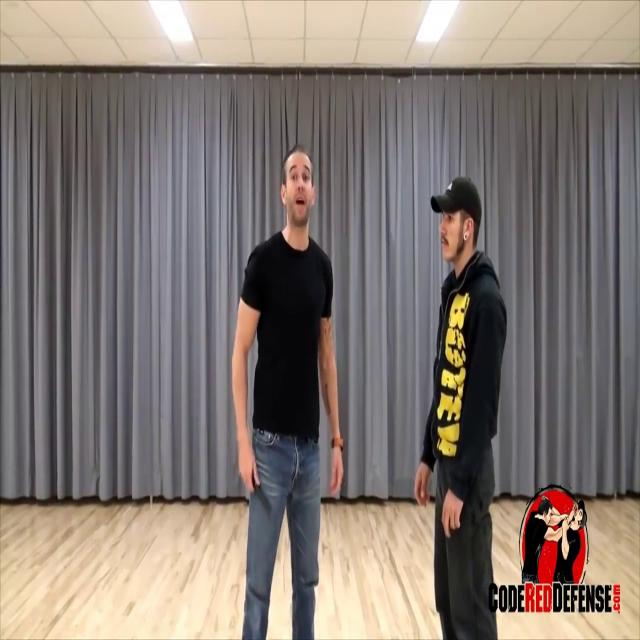Knife_Handle: (238, 448, 272, 512)
